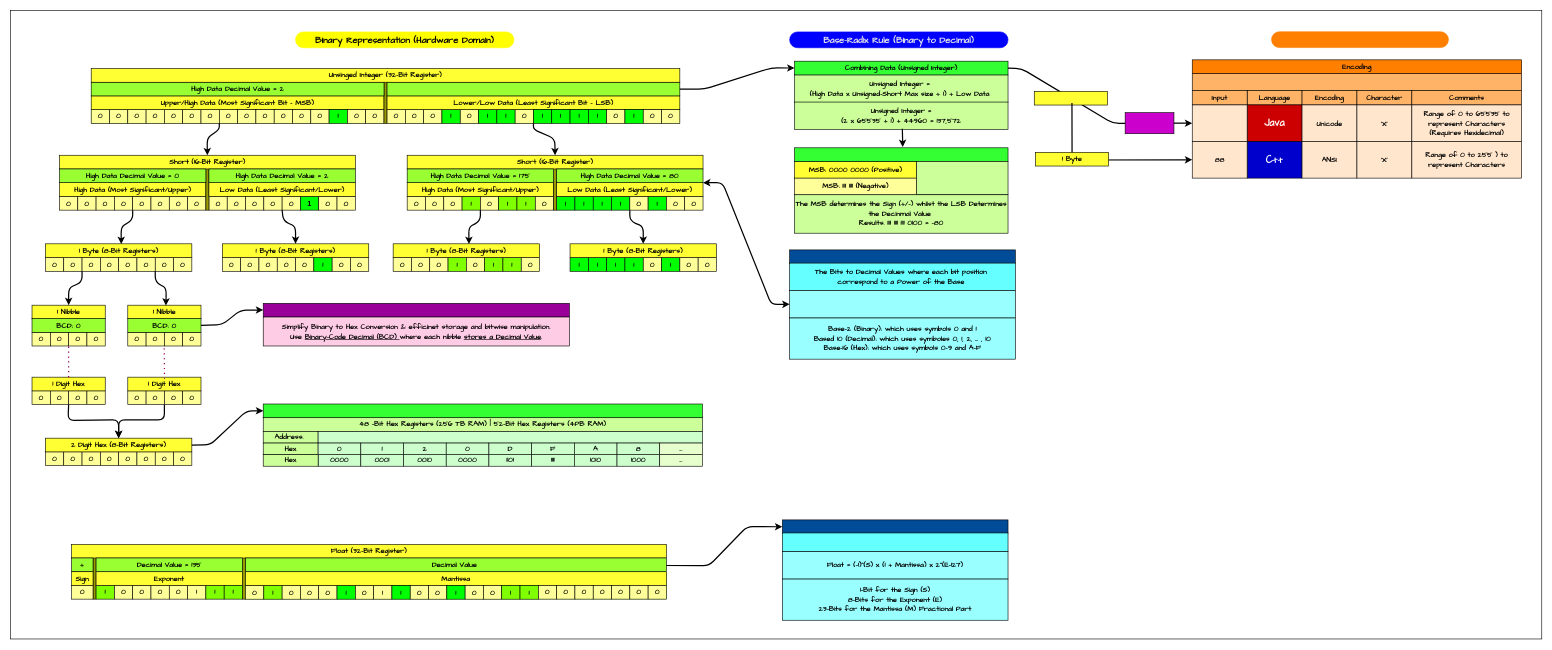
Image size: 1552x650. Some labels were removed from this diagram. Here are the shapes that lost their labels. From the top down, the box of each, then its label:
(1271, 31, 1448, 48): Encoding (Decimal to Characters)
(386, 82, 680, 96): Low Data Decimal Value = 44960
(1034, 91, 1107, 105): Unsigned 16-Bit
(1192, 73, 1522, 91): Process of Mapping Numbers to String
(1125, 112, 1174, 134): Hex Conversion
(1192, 104, 1247, 142): Hex: U+0058 Deci: 88
(794, 147, 1008, 162): Combining Data (Signed Short)
(916, 161, 1008, 195): LSB: 1111 0100 (Decimal)
(789, 249, 1015, 264): Base-Radix Rule System
(263, 303, 569, 317): Nibble
(789, 290, 1015, 318): 1011 = (1 x 2^3) + (0 x 2^2) + (0 x 2^1) + (0 x 2^0) = 11
(263, 403, 702, 418): Application: Computer RAM Addressing
(318, 431, 702, 443): 0x012 DFA8 D60A
(782, 519, 1008, 534): IEEE 754 Structure for 32-Bit Float
(782, 532, 1008, 552): Conversion of Binary to Float follows teh IEEE 754 Standard
